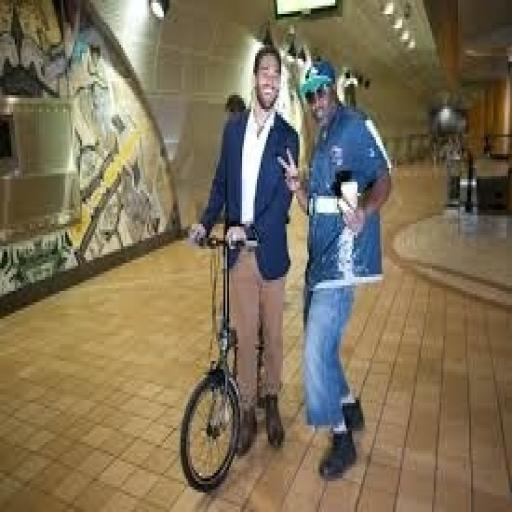cycling: (188, 42, 302, 459)
